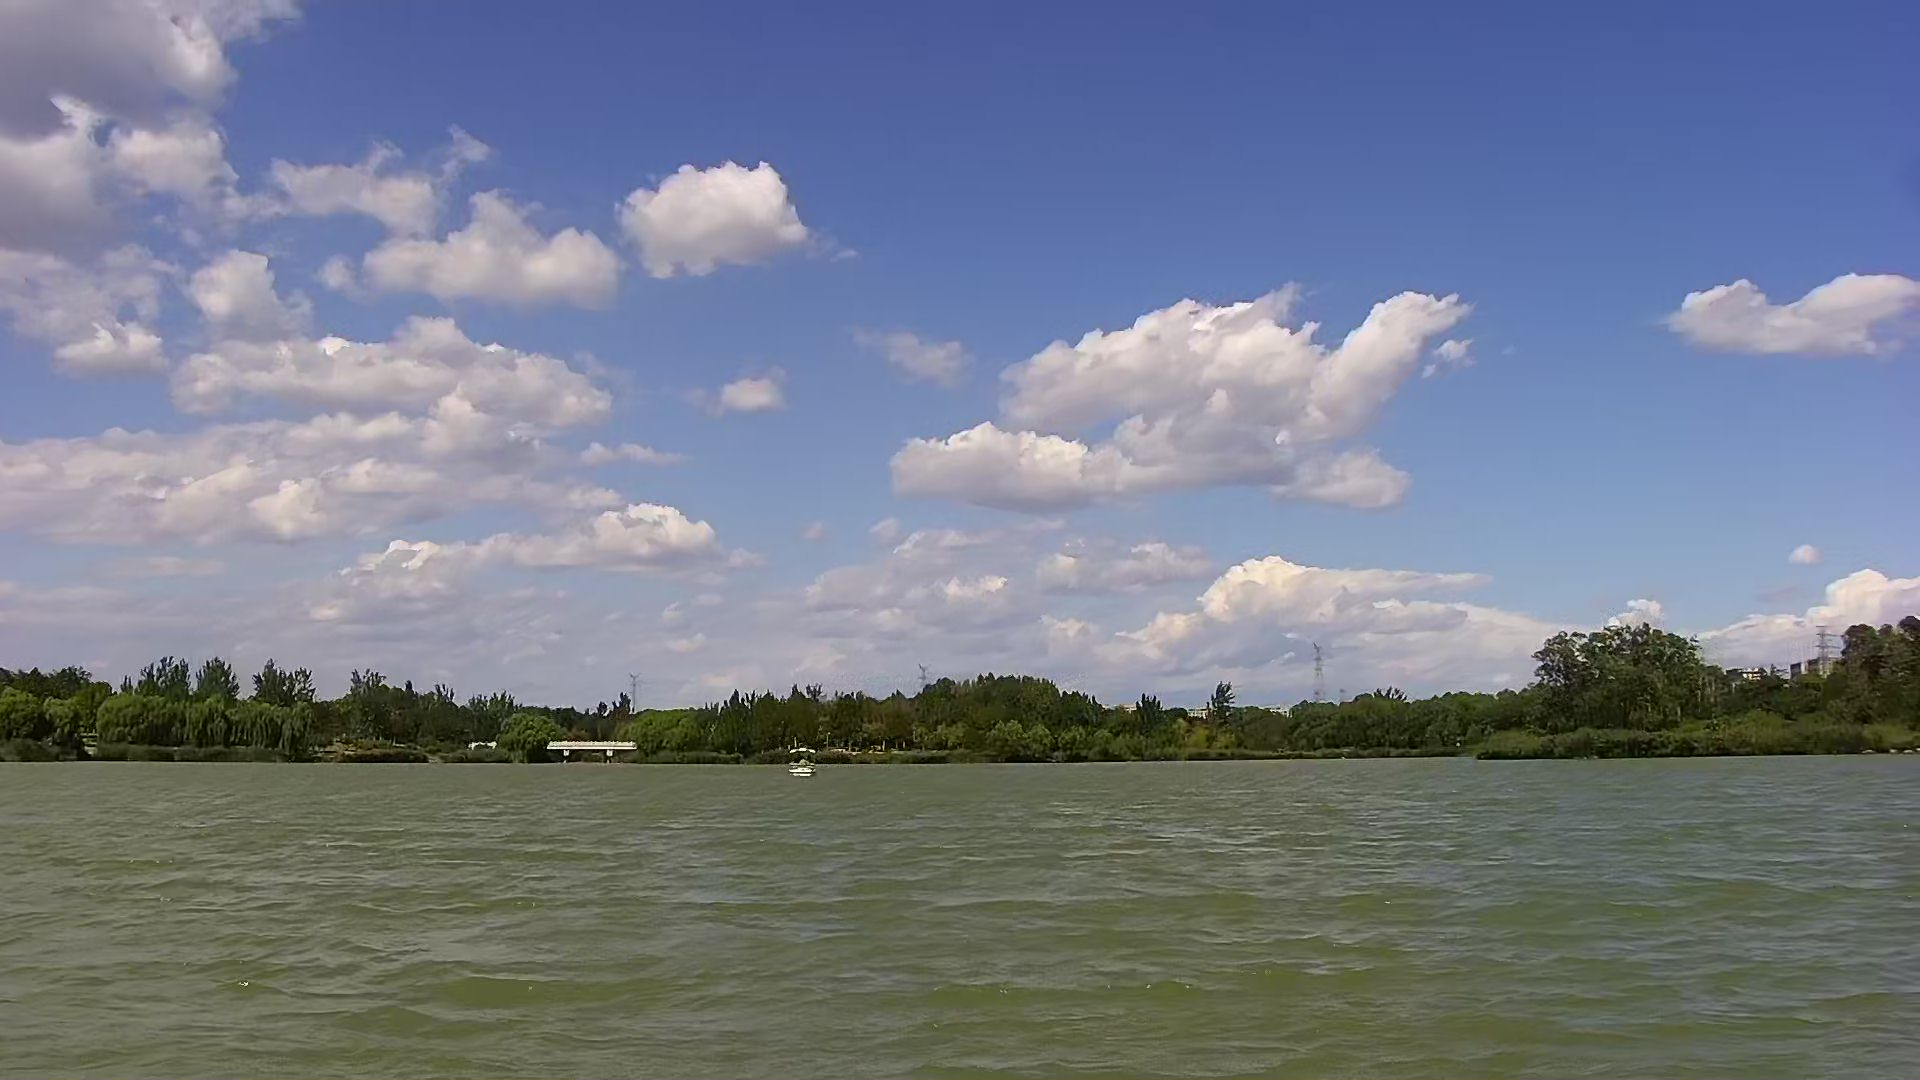boat: (785, 742, 831, 781)
bridge: (541, 727, 633, 766)
